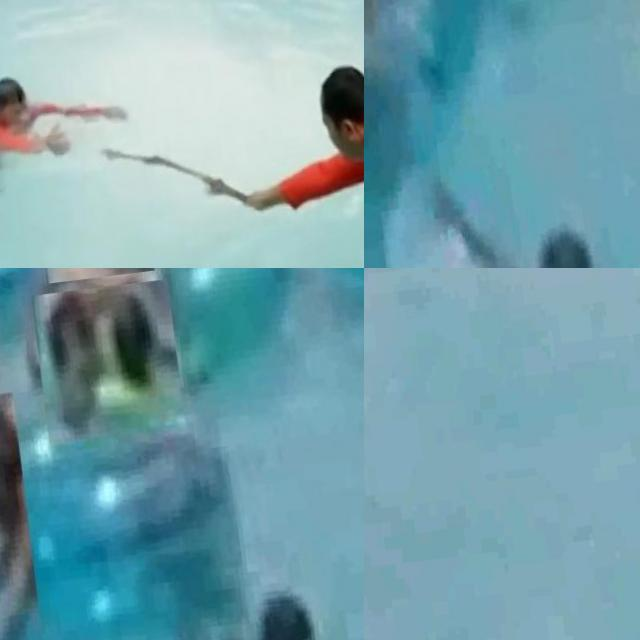drowning: (431, 133, 629, 268), (0, 30, 96, 212), (250, 585, 338, 640)
out of water: (258, 34, 364, 268)
swimming: (32, 278, 187, 444), (0, 392, 49, 640)
